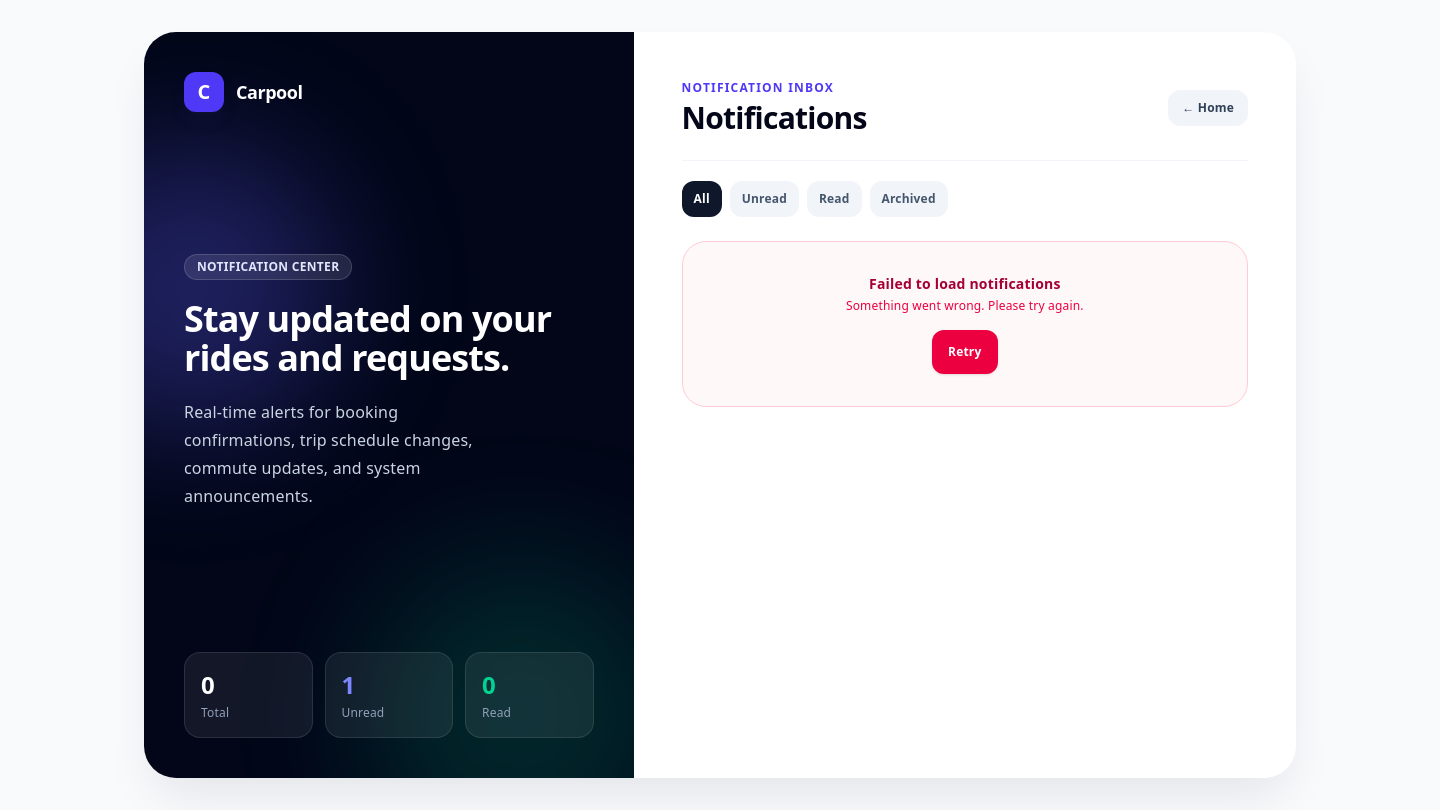
Test: NotificationsPage › renders error state and handles retry
Expected: the text "Failed to load notifications" is shown, [869, 274, 1060, 293]
Click the button "Retry" at (965, 352), box [932, 330, 998, 374]
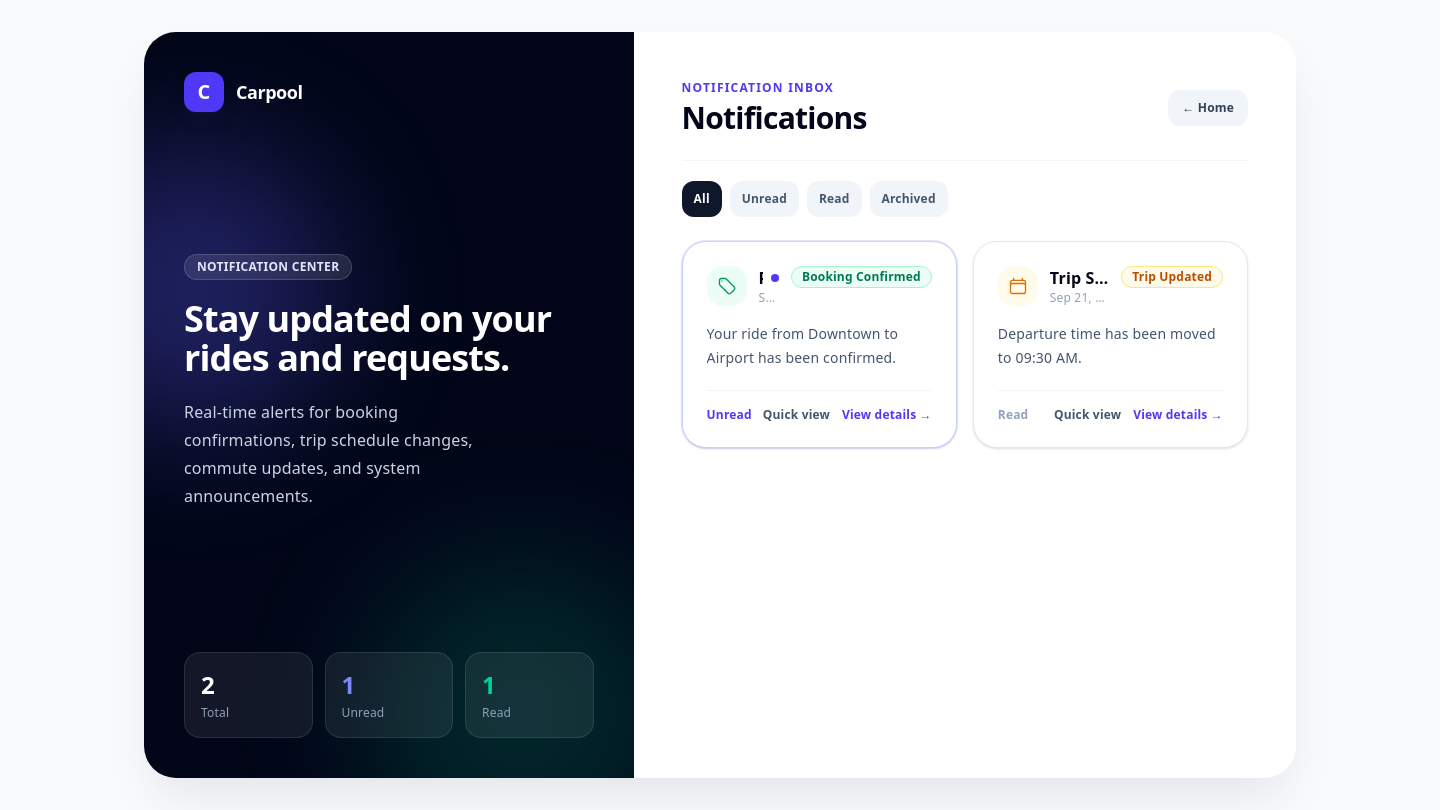
Expected: the heading "Ride Booking Confirmed" is shown, [759, 266, 763, 290]
